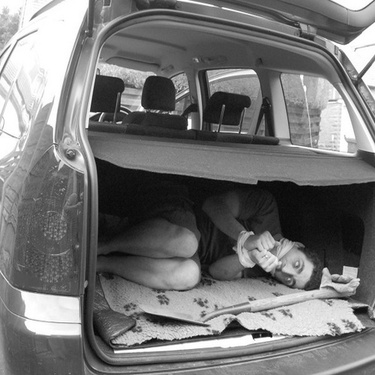car: (10, 4, 370, 353)
